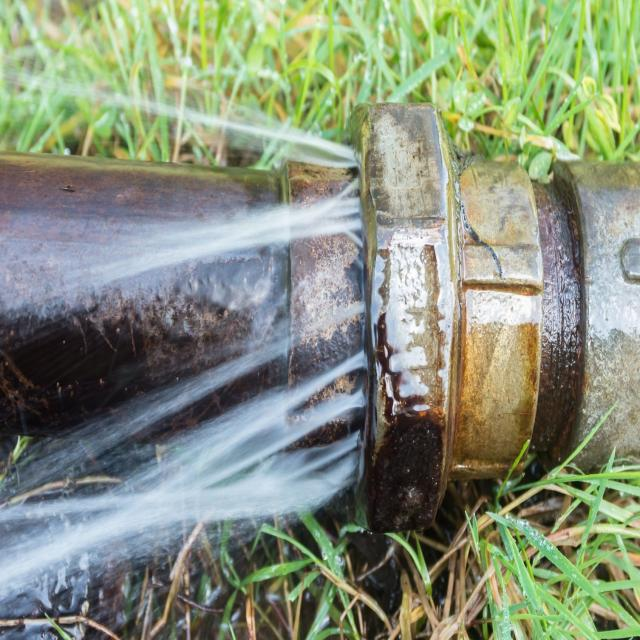leak: (0, 342, 364, 627), (0, 198, 359, 317), (0, 62, 355, 167)
